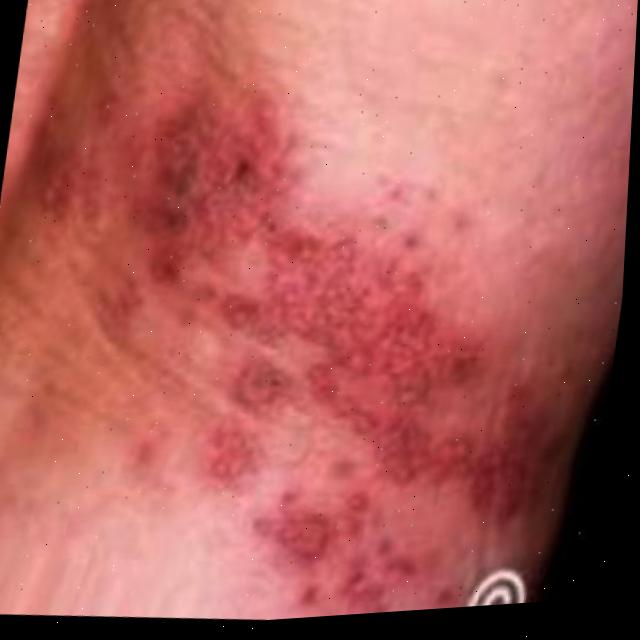Shingles: (66, 74, 587, 633)
